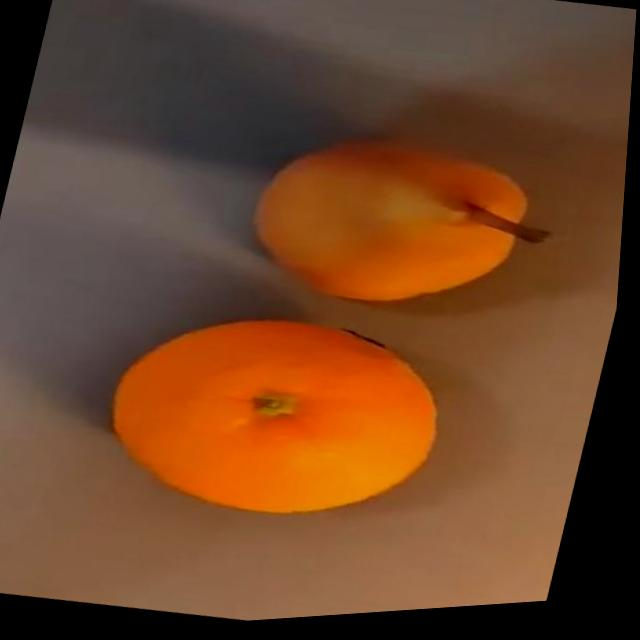Orange: (93, 287, 468, 555)
